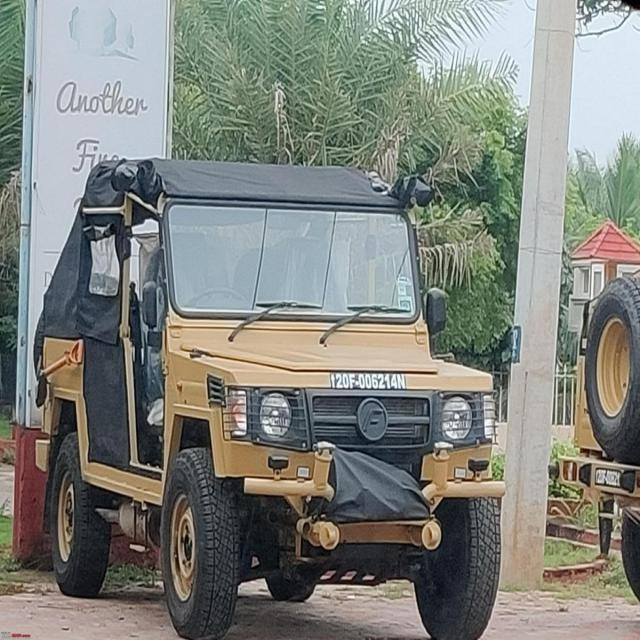military-plate: (327, 370, 407, 390)
